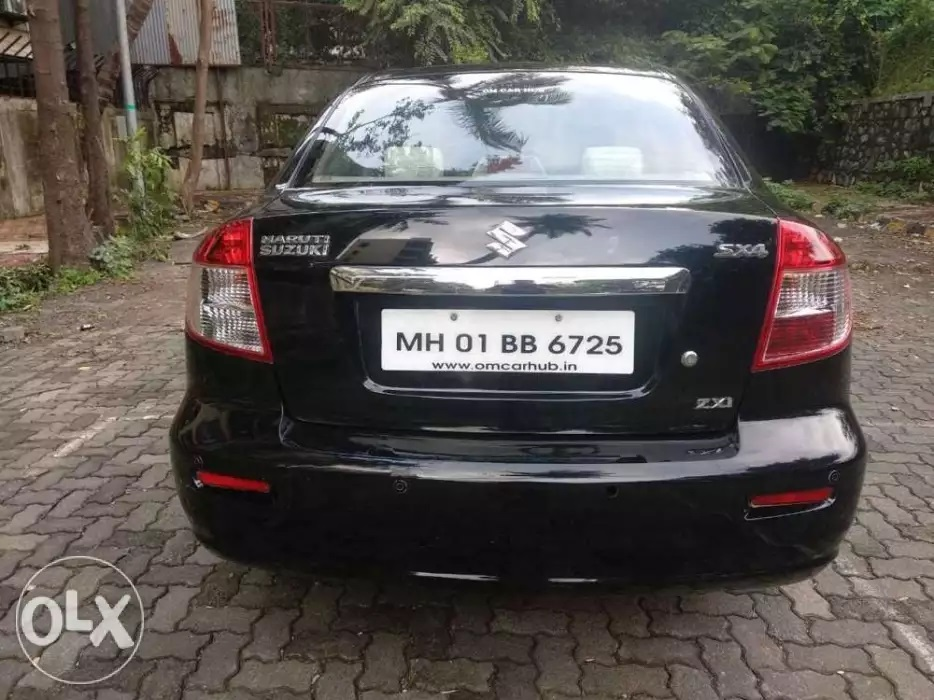licenseplate: (377, 304, 640, 379)
